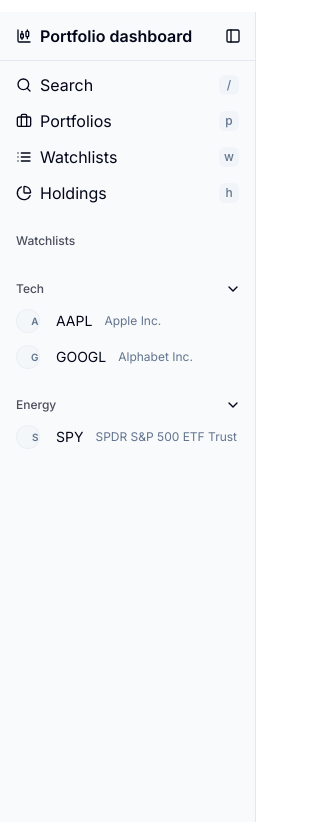
Scenario: AppSidebar Modular Components › Watchlist sidebar navigation › collapses only the watchlist whose caret is clicked and persists to preferences
The image size is (320, 822).
expect the text "AAPL" is shown: met, box [56,311,92,331]
expect the text "GOOGL" is shown: met, box [56,347,106,367]
Click the button named "Toggle Tech": (233, 289) [223,279,243,299]
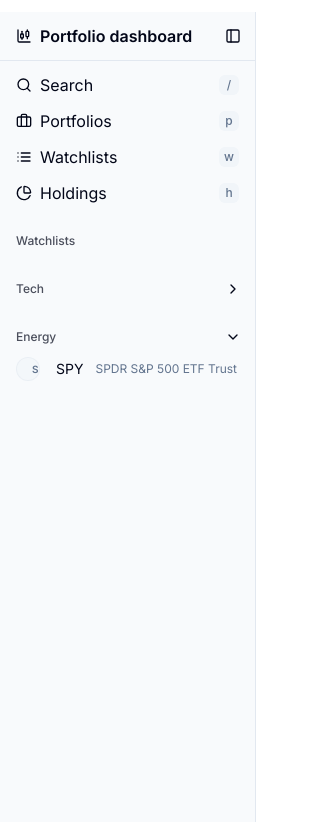
expect the text "SPY" is shown: met, box [56,359,83,379]
expect the link "AAPL" is gone: met
expect the link "GOOGL" is gone: met
Click the button named "Toggle Tech": (233, 289) [223,279,243,299]
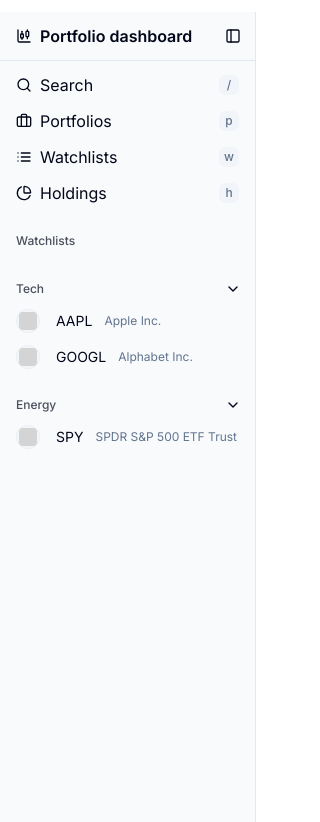
expect the text "AAPL" is shown: met, box [56,311,92,331]
